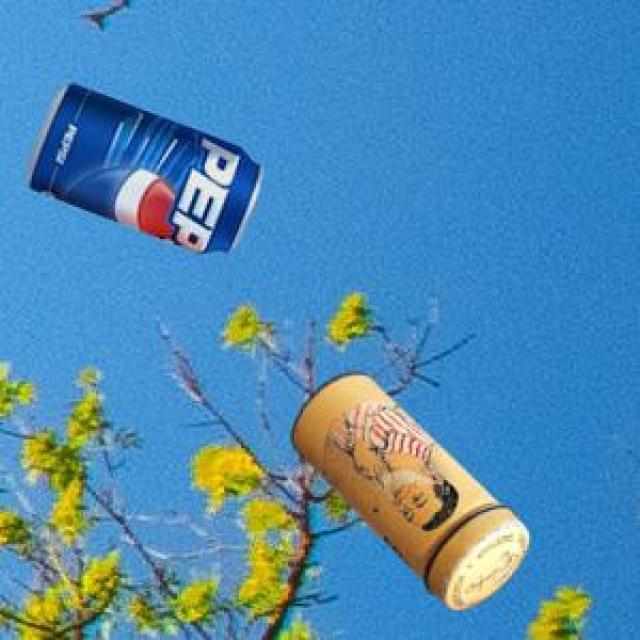Can: (289, 370, 526, 607), (25, 82, 259, 249)
